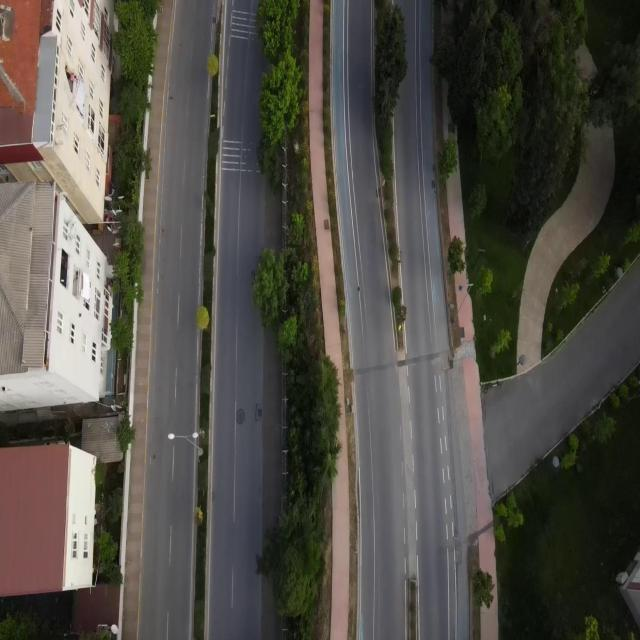p3rson: (70, 70, 78, 84)
